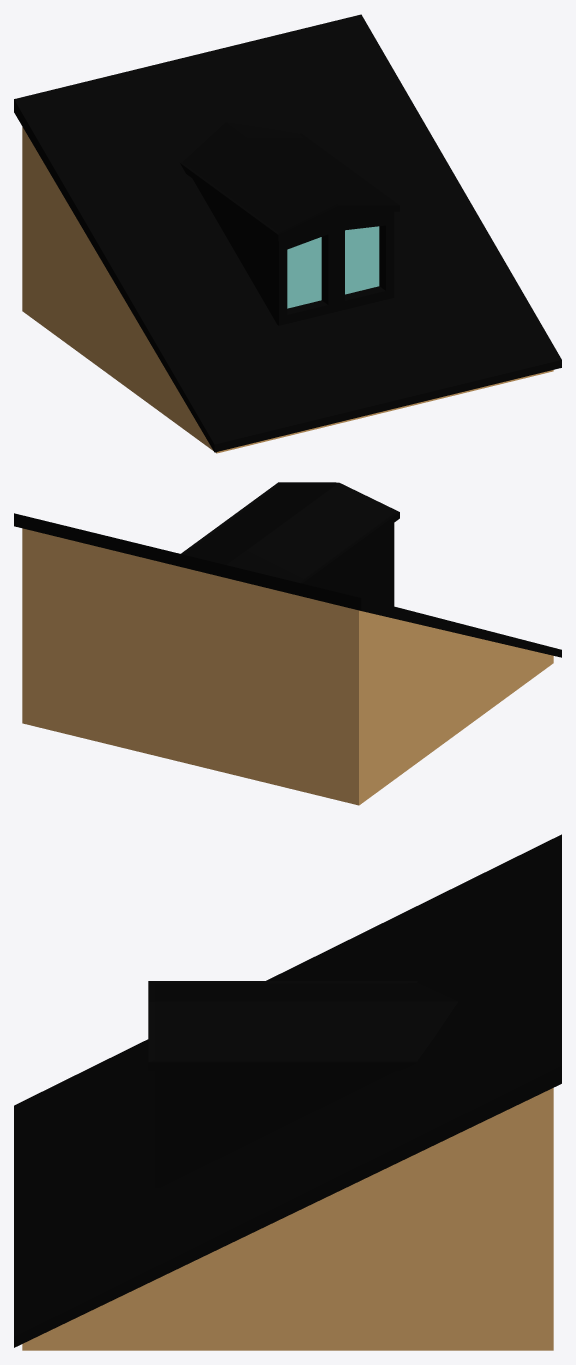
The model's file is roof2.fbx.
3 renders of one model, top to bottom at view 1: azimuth 30°, elevation 25°; view 2: azimuth 150°, elevation 25°; view 3: azimuth 270°, elevation 25°, orthographic. The views are drawn at different scales.
Visible parts, largest first — view 1: Roof; view 2: Roof; view 3: Roof.
Boxes of the visible parts, box(x1,y1,x2,y2) form: Roof: box(14, 14, 561, 453); Roof: box(14, 482, 561, 805); Roof: box(14, 834, 561, 1350).
Bounding box in the file's own units: 206 × 120 × 206.
